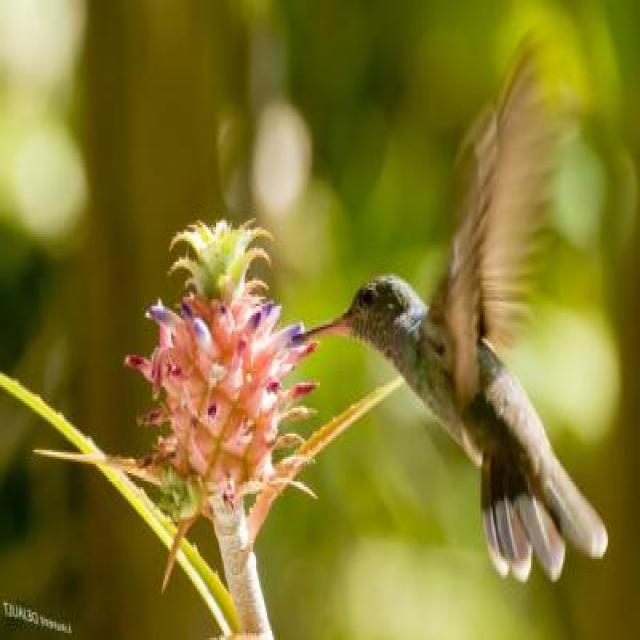birds: (275, 76, 622, 601)
